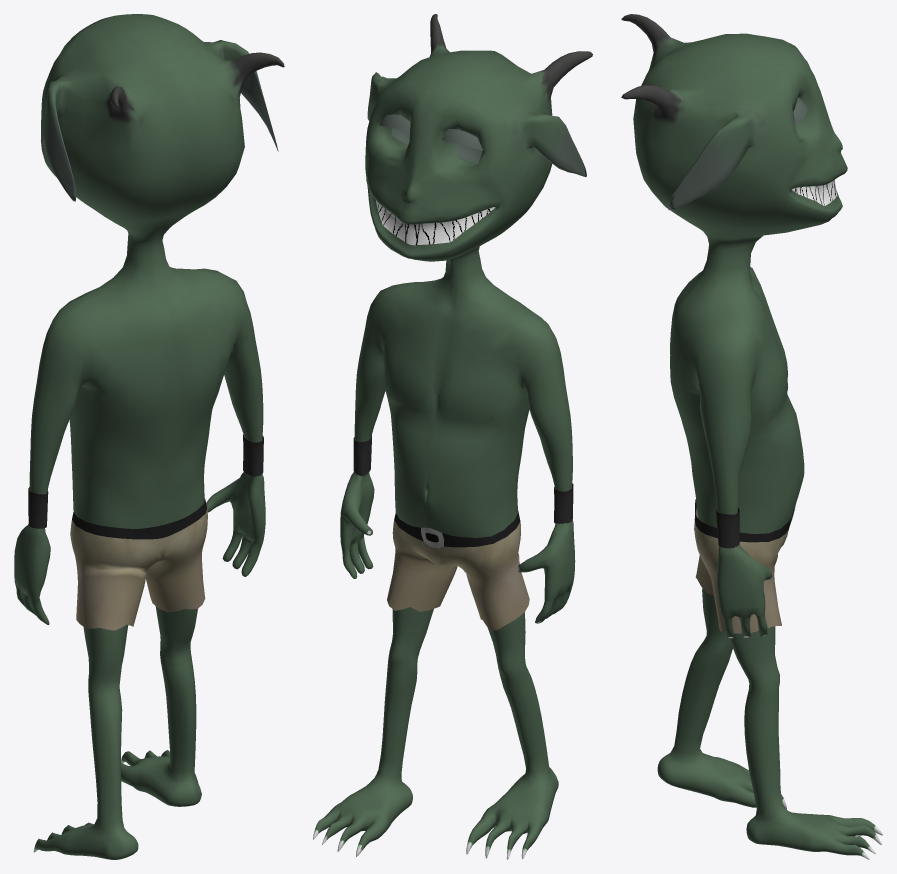
The model's file is lwjglcharactergoblin10_000028.obj.
3 views of the same model, side by side, from view 1: azimuth 30°, elevation 25°; view 2: azimuth 150°, elevation 25°; view 3: azimuth 270°, elevation 25° (orthographic). The views are drawn at different scales.
Visible parts, largest first — view 1: Cube.002; view 2: Cube.002; view 3: Cube.002.
Part boxes in pixels (box(x1,y1,x2,y2)): Cube.002: box(14, 14, 284, 859); Cube.002: box(313, 14, 592, 859); Cube.002: box(621, 14, 882, 859).
Bounding box in the file's own units: 1.18 × 3.9 × 1.17.
